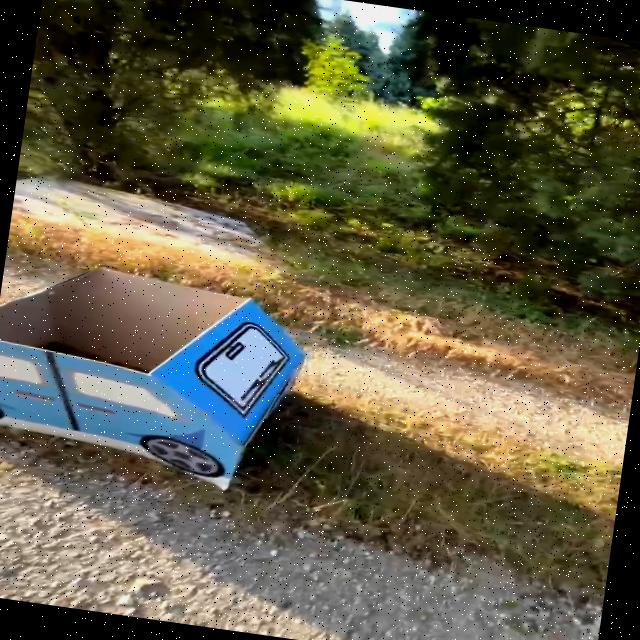blue_car: (0, 230, 386, 529)
